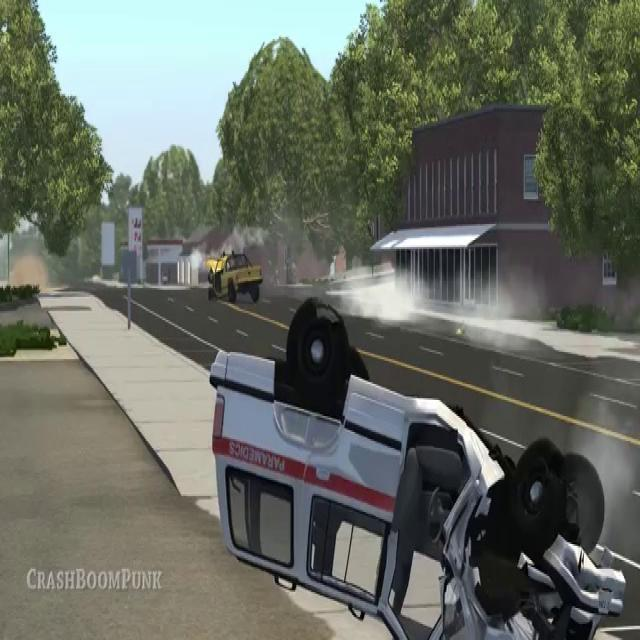multiple_accident: (217, 349, 637, 640), (186, 237, 277, 311)
